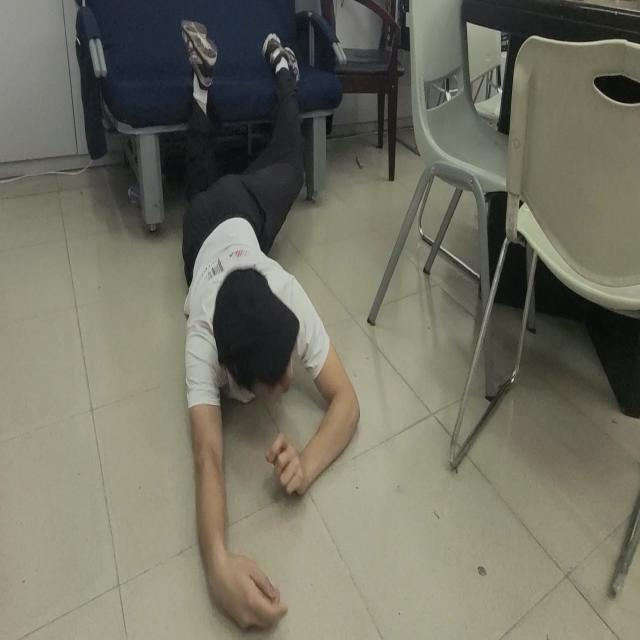Fall-Detected: (175, 14, 362, 640)
